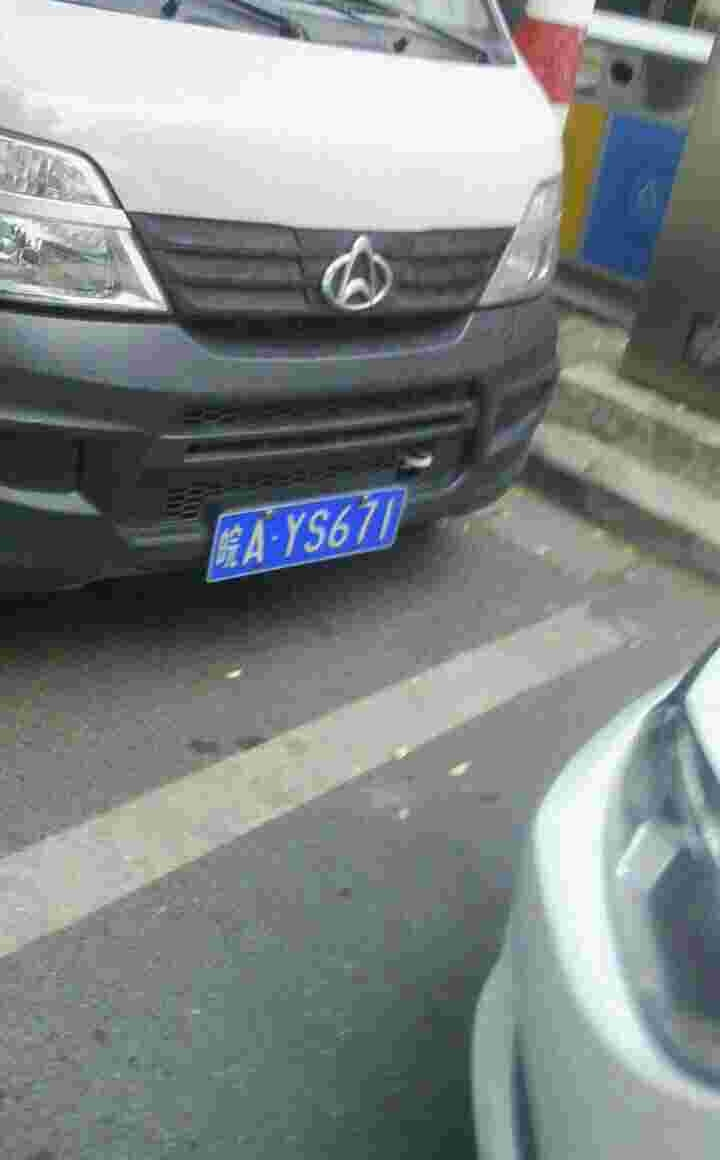plate: (211, 480, 415, 584)
